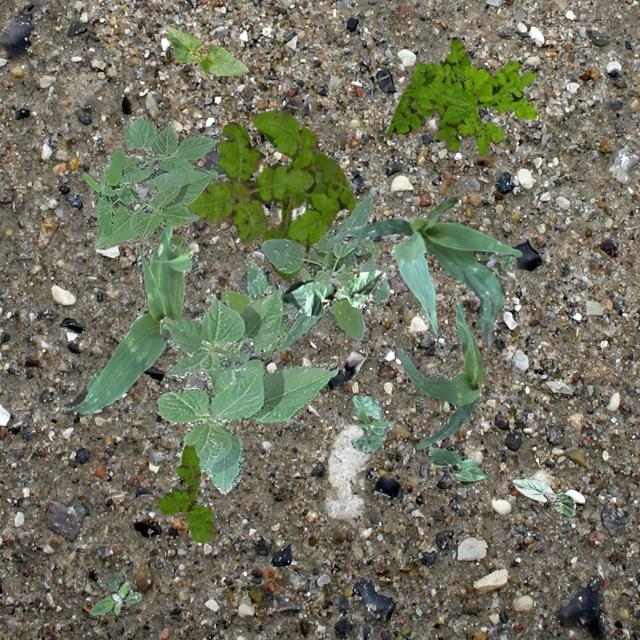crop: (154, 287, 338, 493), (323, 194, 521, 344), (57, 224, 192, 416), (260, 192, 390, 350), (92, 114, 218, 248), (390, 300, 482, 448), (260, 162, 308, 282), (282, 268, 384, 314), (165, 24, 246, 74), (512, 476, 574, 516), (351, 394, 392, 452), (428, 444, 487, 479)
weed: (184, 110, 354, 244), (386, 36, 536, 154), (220, 256, 312, 362), (156, 444, 212, 542), (80, 147, 138, 235), (89, 572, 140, 614), (478, 252, 516, 278)
